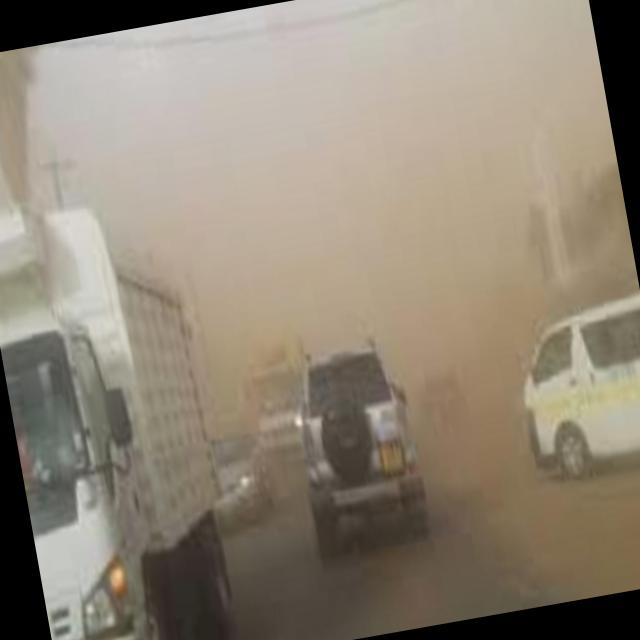car: (284, 329, 431, 559), (504, 291, 640, 486), (207, 427, 275, 532), (412, 368, 474, 443)
